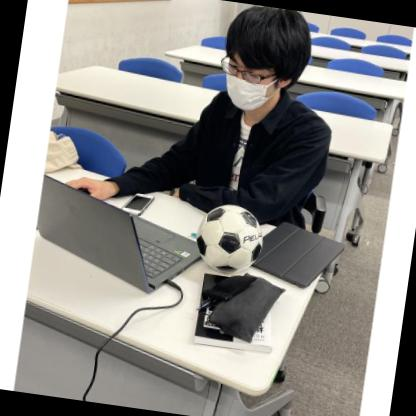ball: (190, 201, 267, 277)
